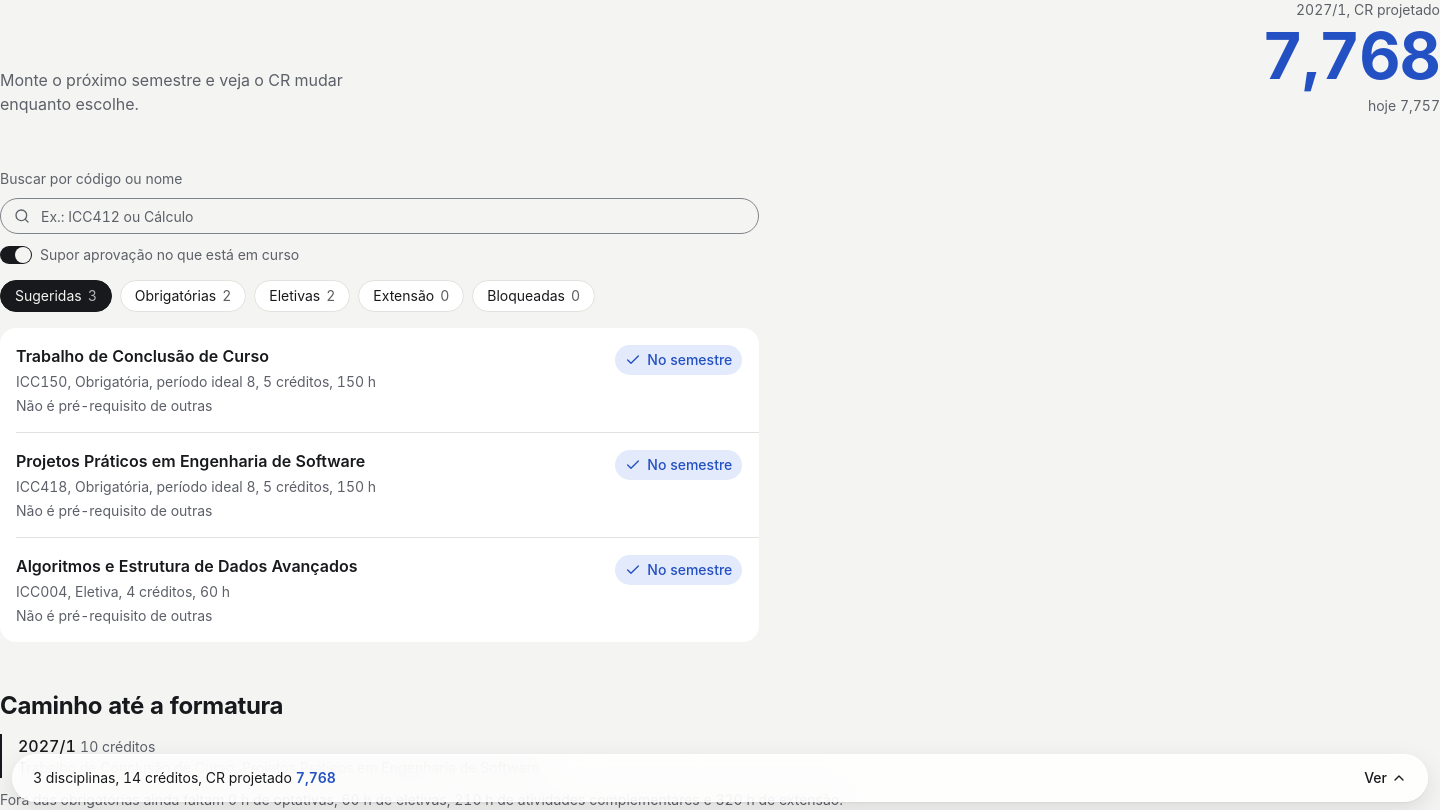
Test: PlanningScreen › keeps the panel in a bottom sheet below lg, with one copy of it
Click the button "3 disciplinas, 14 créditos, CR projetado 7,768 Ver" at {"x": 116, "y": 778}, box [12,754,1428,802]
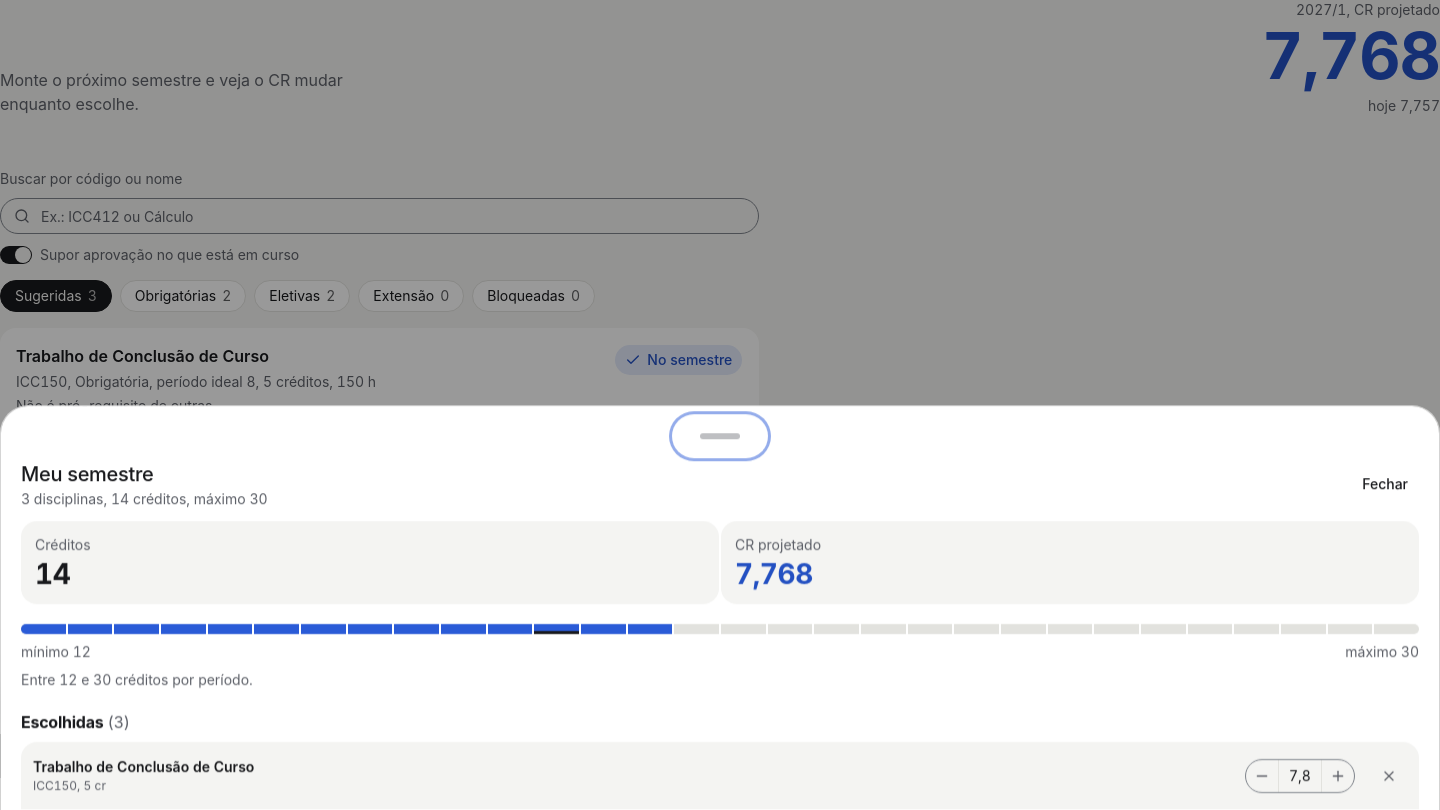
Now the field named "Nota esperada em Trabalho de Conclusão de Curso" is shown, box [1278,760,1322,792]
